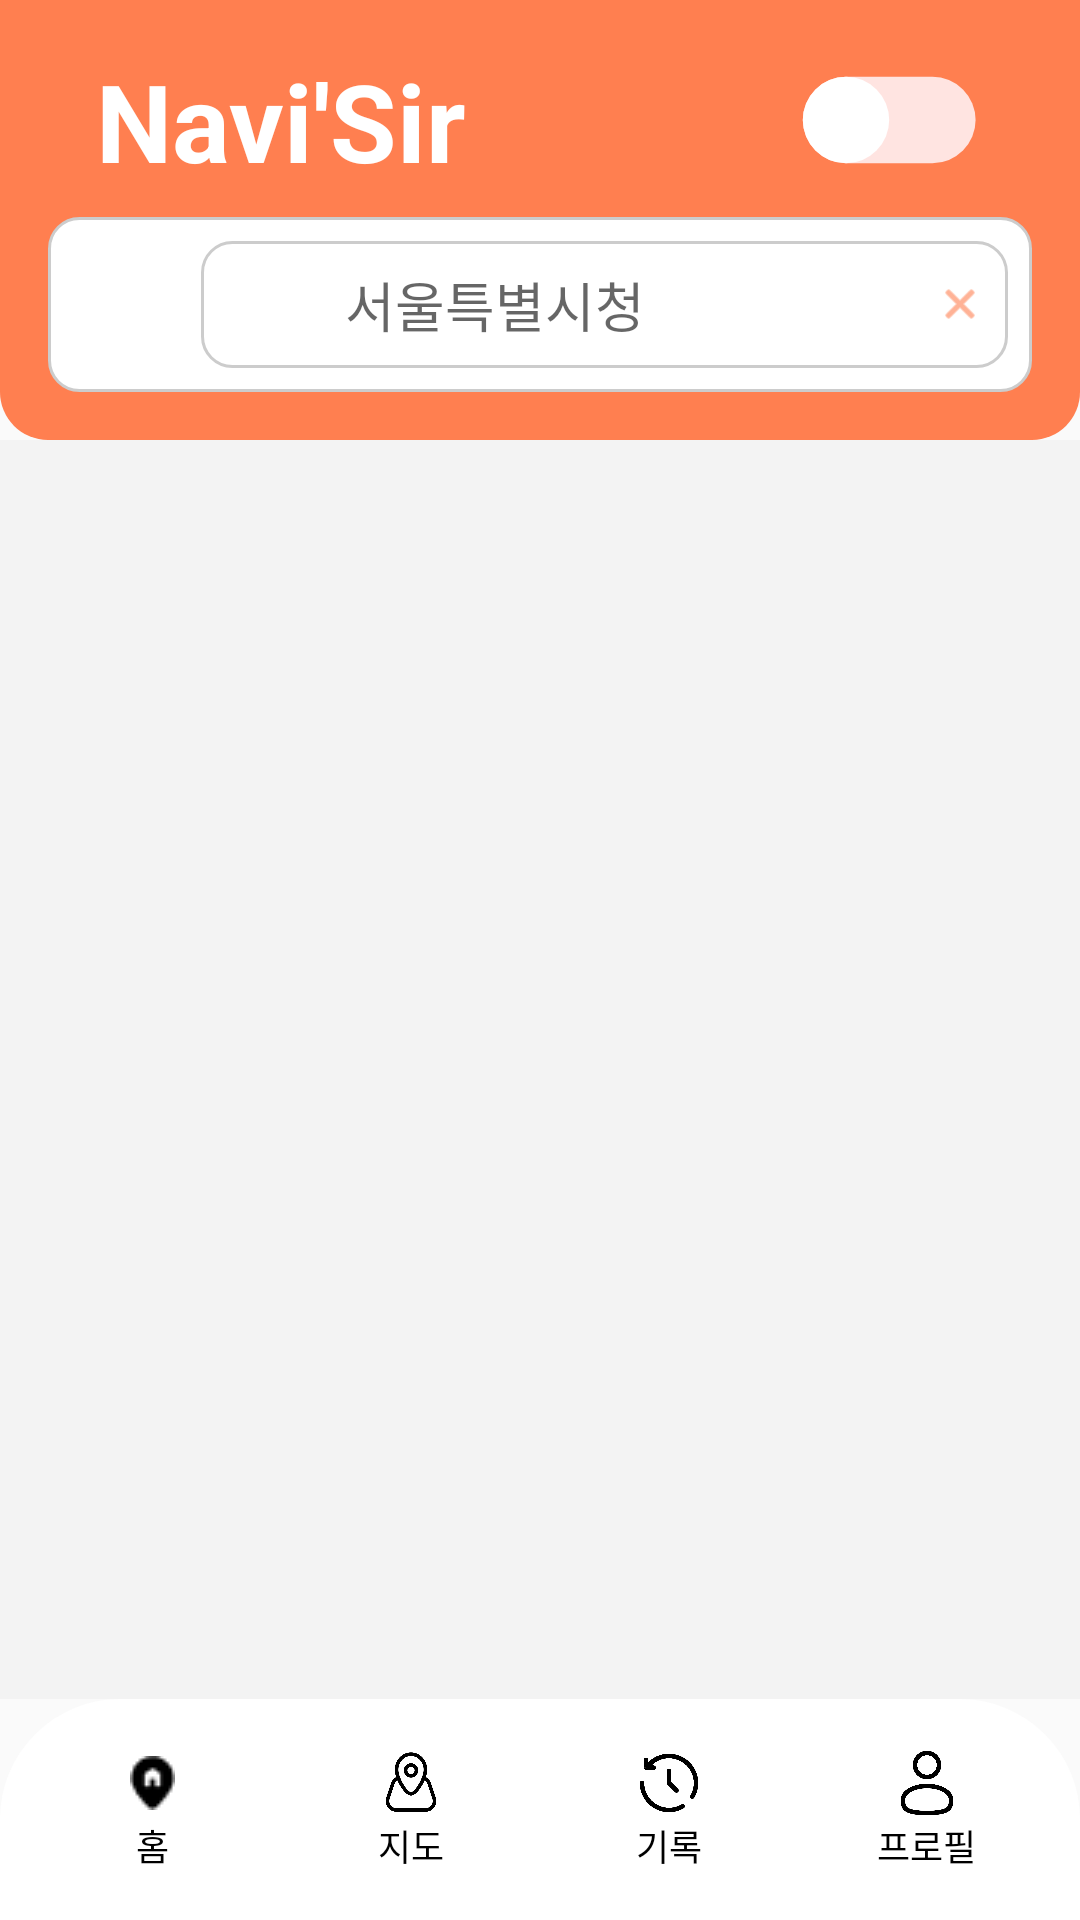

Icon click points for this 1080 × 1920 phone screenshot, format (x,y):
close clear cancel: (960,304)
